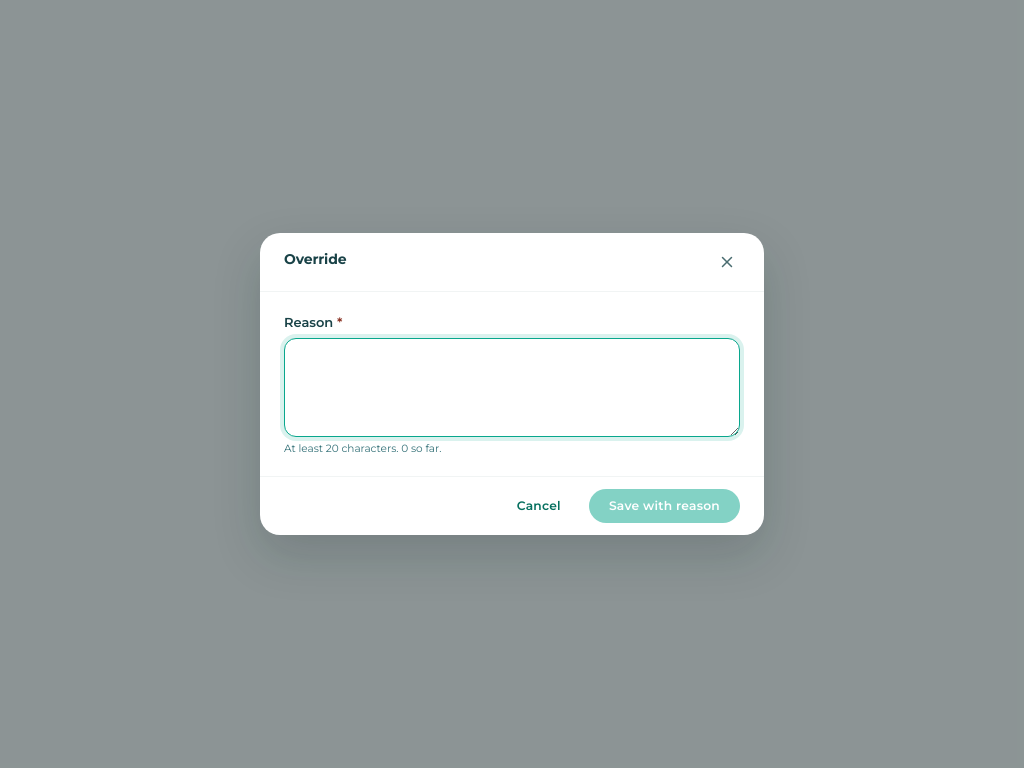
it: ReasonDialog (rule 6: overrides need a reason) › keeps the dialog open with the typed reason when the server refuses
Type "Audit predates the corridor arrangement and covers domestic operations only." into the text box labelled "Reason *" at (512, 387), box [284,338,740,437]
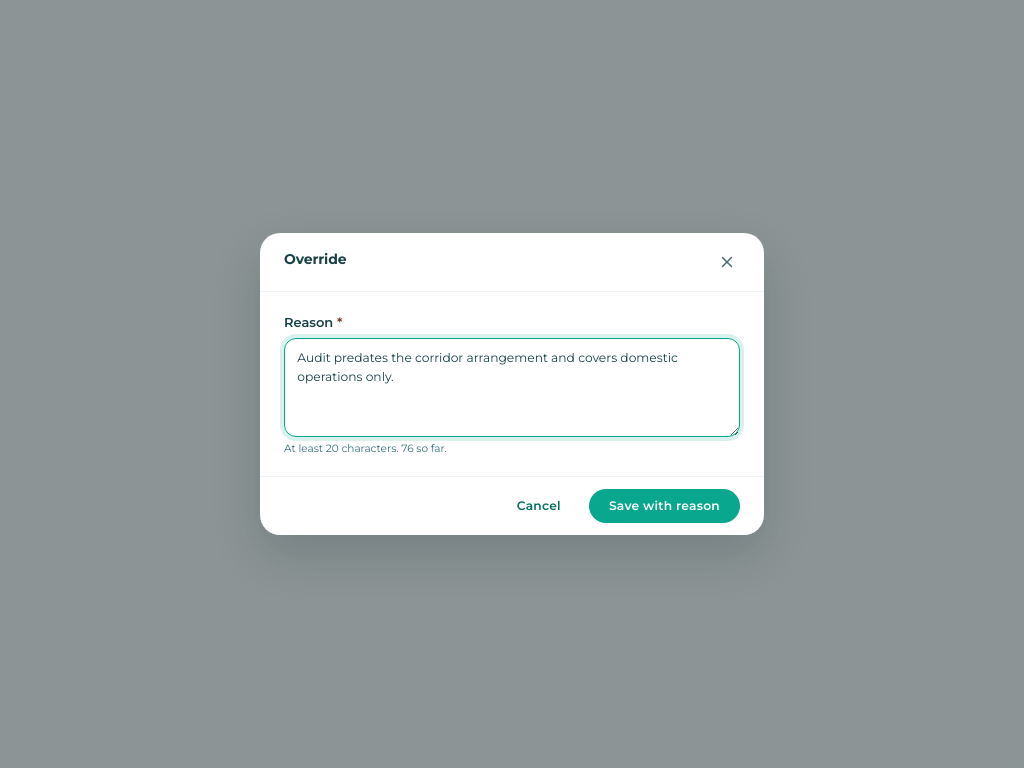
Click the button "Save with reason" at (664, 506), box [589,490,740,523]
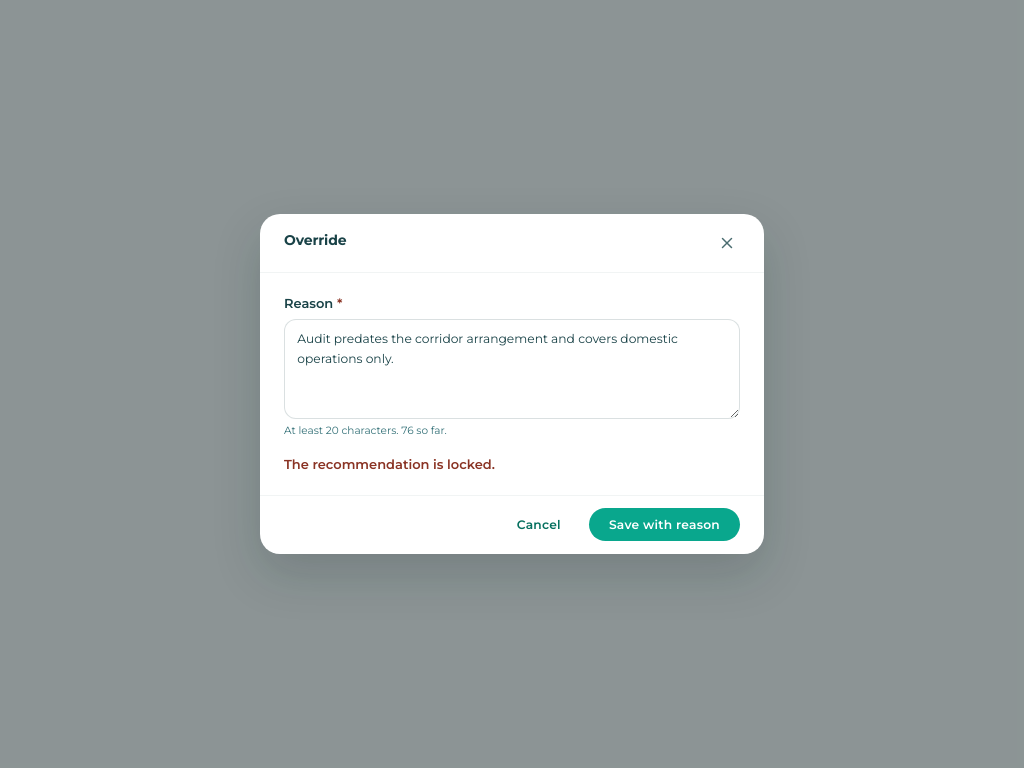
Now the text "The recommendation is locked." is shown, box [284,456,495,472]
